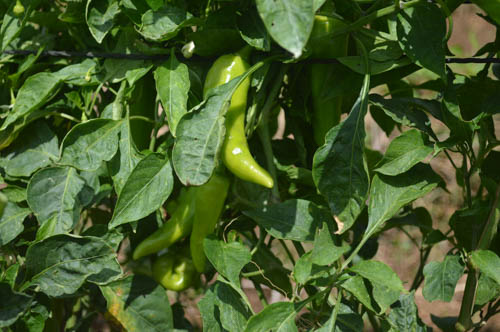ChiliPepper: (206, 56, 273, 185), (125, 188, 200, 262), (310, 16, 351, 148), (194, 177, 229, 275), (152, 258, 199, 293)
